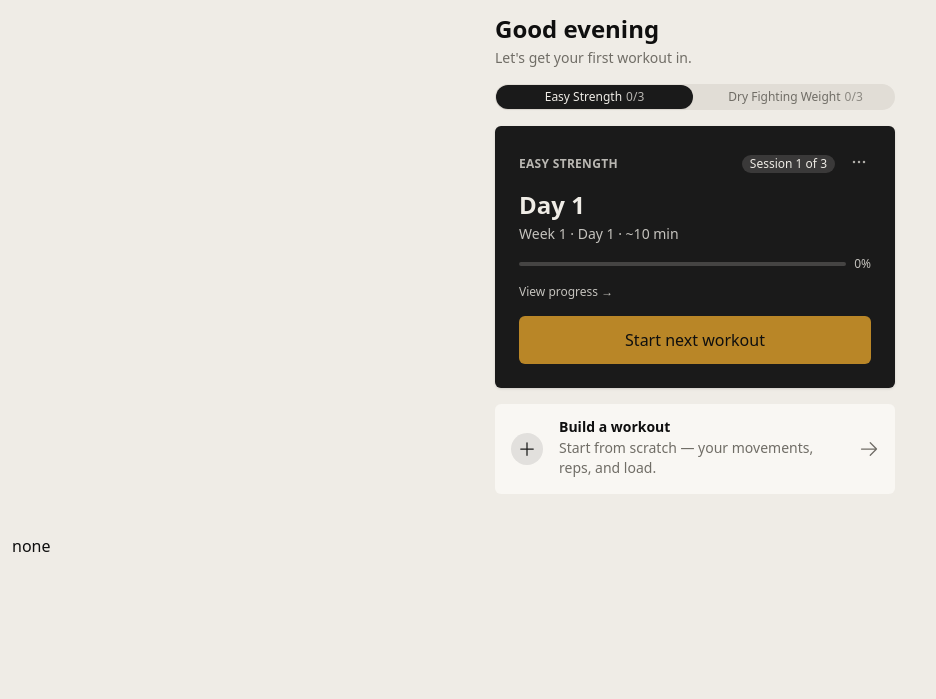
Test: StartWorkoutPage parallel programs › stashes the selected program session when its workout is started
Expected: the text with test id "pending-session" reads "none", [12,535,50,557]
Click the tab "Dry Fighting Weight 0/3" at [796, 97], box [697,85,894,109]
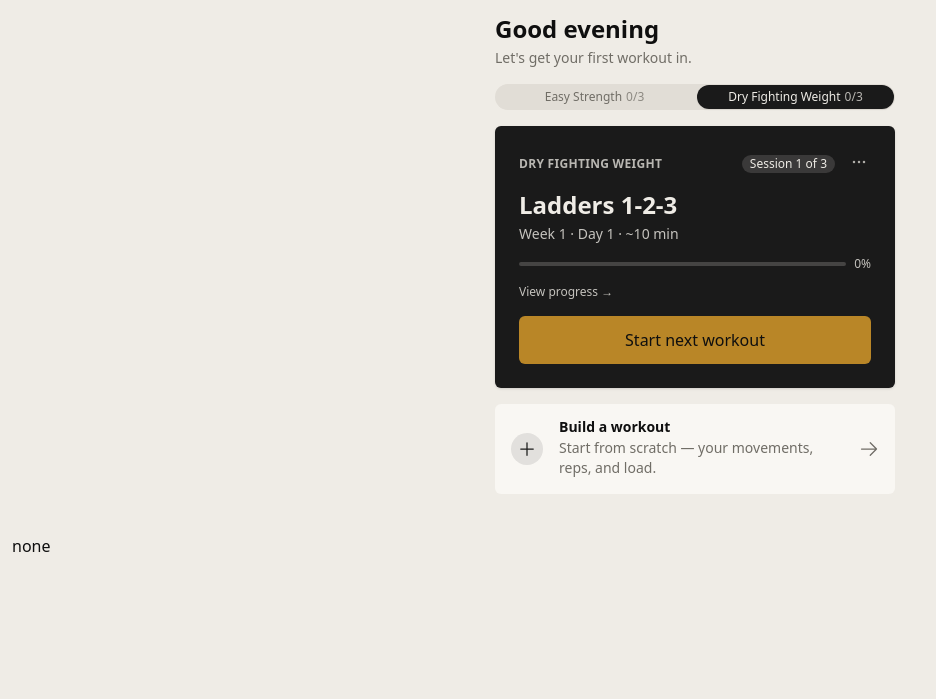
Click the button "Start next workout" at [695, 340], box [519,316,871,364]
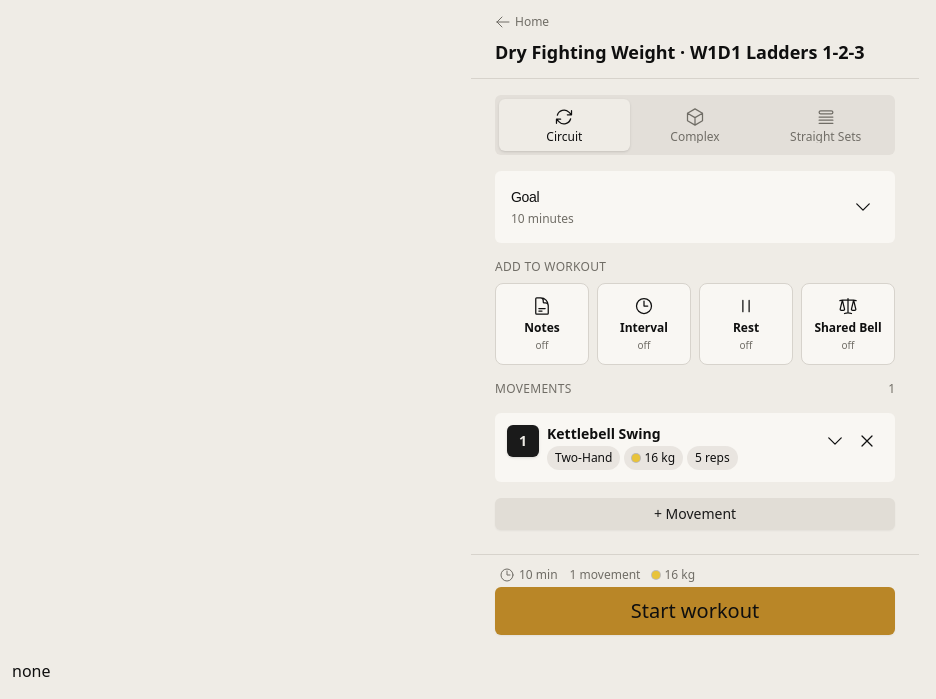
Click the button "Start workout" at [695, 611], box [495,587,895,635]
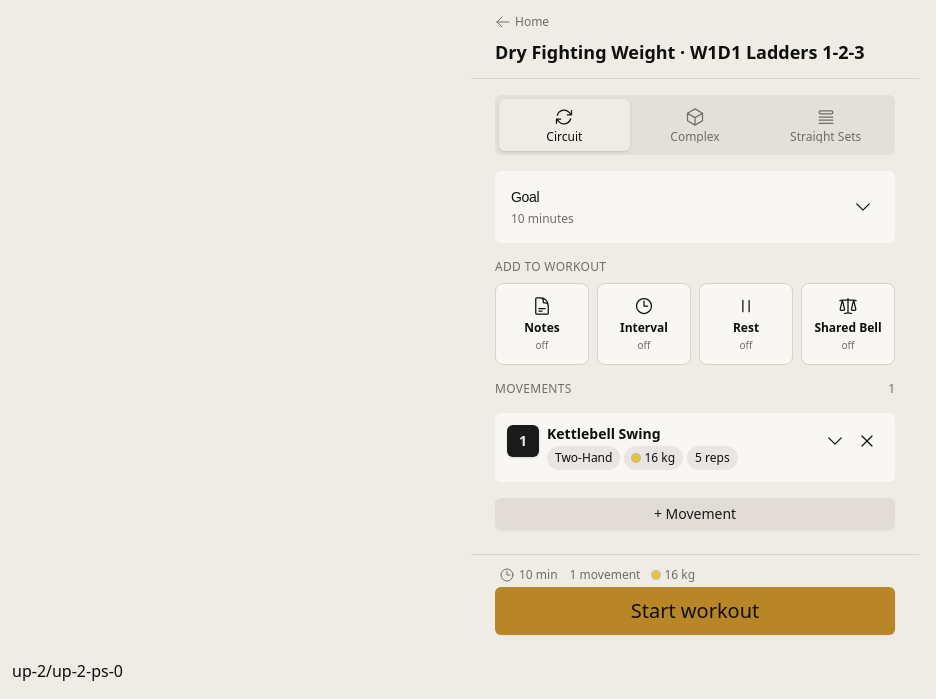
Result: the text with test id "pending-session" reads "up-2/up-2-ps-0" at [12,660,123,682]
